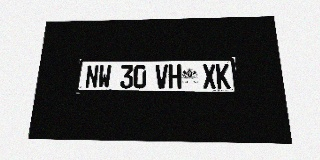0: (133, 65, 146, 89)
3: (120, 65, 133, 89)
H: (168, 64, 181, 89)
K: (215, 64, 231, 89)
N: (85, 65, 99, 88)
V: (155, 64, 168, 89)
W: (97, 65, 111, 88)
X: (202, 64, 217, 89)
